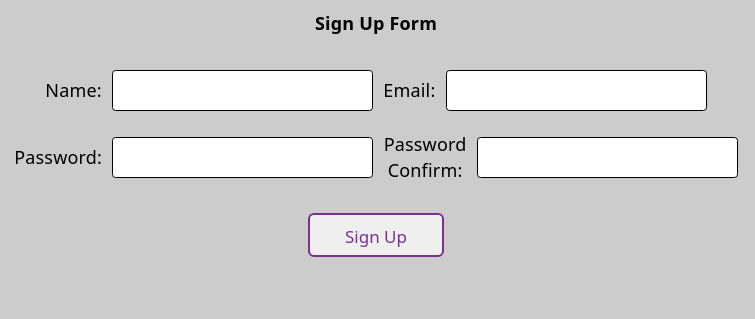
SignUp component › error text is rendered after API request
The width and height of the screenshot is (755, 319).
Click the button "Sign Up" at (376, 235), box [308,213,444,257]
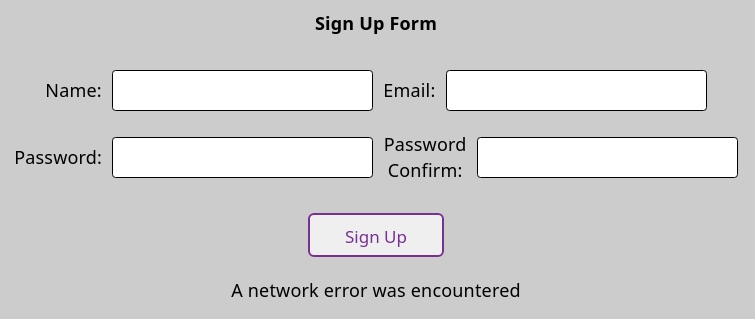
Now the text "A network error was encountered" is shown, box [231,278,521,302]
